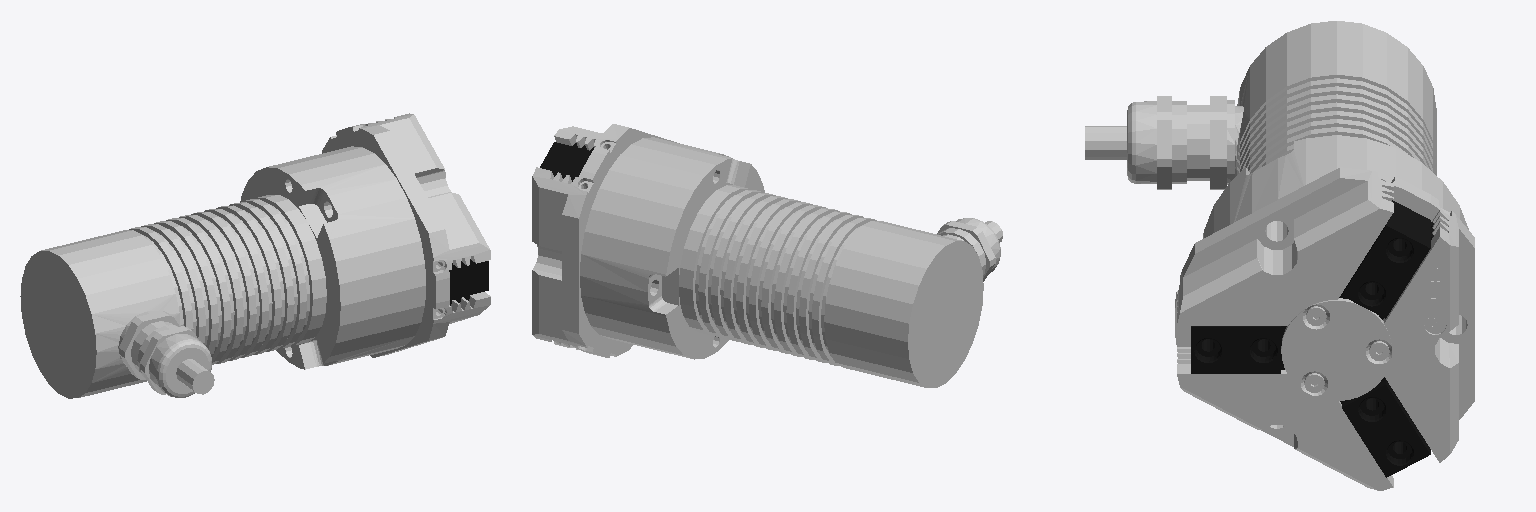
robot.urdf — ezn64_model:
<robot
  name="ezn64_model">
  <link
    name="ezn64_base_link">
    <inertial>
      <origin
        xyz="-0.0597472396167027 -0.00105462552475217 1.03388922491662E-05"
        rpy="0 0 0" />
      <mass
        value="0.292531716256714" />
      <inertia
        ixx="0.000127280528424294"
        ixy="1.70352243549314E-05"
        ixz="1.18923384991819E-07"
        iyy="0.000494637894497754"
        iyz="-4.08383573670305E-08"
        izz="0.000506767672669245" />
    </inertial>
    <visual>
      <origin
        xyz="0 0 0"
        rpy="0 0 0" />
      <geometry>
        <mesh
          filename="package://ezn64_model/meshes/ezn64_base_link.STL" />
      </geometry>
      <material
        name="">
        <color
          rgba="0.819607843137255 0.819607843137255 0.819607843137255 1" />
      </material>
    </visual>
    <collision>
      <origin
        xyz="0 0 0"
        rpy="0 0 0" />
      <geometry>
        <mesh
          filename="package://ezn64_model/meshes/ezn64_base_link.STL" />
      </geometry>
    </collision>
  </link>
  <link
    name="ezn64_finger_1">
    <inertial>
      <origin
        xyz="0.00709005979737385 -0.000260000509586692 -0.0102744701962787"
        rpy="0 0 0" />
      <mass
        value="0.00614599943010827" />
      <inertia
        ixx="5.87624825788296E-07"
        ixy="1.69661588831627E-14"
        ixz="-1.33685858752718E-08"
        iyy="5.87785468507411E-07"
        iyz="2.84080225024107E-15"
        izz="2.22775219868136E-07" />
    </inertial>
    <visual>
      <origin
        xyz="0 0 0"
        rpy="0 0 0" />
      <geometry>
        <mesh
          filename="package://ezn64_model/meshes/ezn64_finger_1.STL" />
      </geometry>
      <material
        name="">
        <color
          rgba="0.12156862745098 0.12156862745098 0.12156862745098 1" />
      </material>
    </visual>
    <collision>
      <origin
        xyz="0 0 0"
        rpy="0 0 0" />
      <geometry>
        <mesh
          filename="package://ezn64_model/meshes/ezn64_finger_1.STL" />
      </geometry>
    </collision>
  </link>
  <joint
    name="ezn64_joint_1"
    type="prismatic">
    <origin
      xyz="-0.01501 -0.0086667 0"
      rpy="-1.5708 0 0" />
    <parent
      link="ezn64_base_link" />
    <child
      link="ezn64_finger_1" />
    <axis
      xyz="0 0 -1" />
    <limit
      lower="0"
      upper="0.006"
      effort="0"
      velocity="0" />
  </joint>
  <link
    name="ezn64_finger_2">
    <inertial>
      <origin
        xyz="0.007090059798561 0.0102635175461303 0.000259999490413285"
        rpy="0 0 0" />
      <mass
        value="0.00614599942439724" />
      <inertia
        ixx="5.87624816021265E-07"
        ixy="1.33685954824186E-08"
        ixz="1.69655511564291E-14"
        iyy="2.2277521955471E-07"
        iyz="-3.52982932349008E-15"
        izz="5.87785458977903E-07" />
    </inertial>
    <visual>
      <origin
        xyz="0 0 0"
        rpy="0 0 0" />
      <geometry>
        <mesh
          filename="package://ezn64_model/meshes/ezn64_finger_2.STL" />
      </geometry>
      <material
        name="">
        <color
          rgba="0.12156862745098 0.12156862745098 0.12156862745098 1" />
      </material>
    </visual>
    <collision>
      <origin
        xyz="0 0 0"
        rpy="0 0 0" />
      <geometry>
        <mesh
          filename="package://ezn64_model/meshes/ezn64_finger_2.STL" />
      </geometry>
    </collision>
  </link>
  <joint
    name="ezn64_joint_2"
    type="prismatic">
    <origin
      xyz="-0.01501 0.0043333 0.0075056"
      rpy="1.0472 0 0" />
    <parent
      link="ezn64_base_link" />
    <child
      link="ezn64_finger_2" />
    <axis
      xyz="0 1 0" />
    <limit
      lower="0"
      upper="0.006"
      effort="0"
      velocity="0" />
  </joint>
  <link
    name="ezn64_finger_3">
    <inertial>
      <origin
        xyz="0.007090059798561 0.000260000509586661 0.0103109721293354"
        rpy="0 0 0" />
      <mass
        value="0.00614599942439724" />
      <inertia
        ixx="5.87624816021265E-07"
        ixy="-1.69655511001808E-14"
        ixz="1.33685954824186E-08"
        iyy="5.87785458977903E-07"
        iyz="3.52983010434858E-15"
        izz="2.22775219554709E-07" />
    </inertial>
    <visual>
      <origin
        xyz="0 0 0"
        rpy="0 0 0" />
      <geometry>
        <mesh
          filename="package://ezn64_model/meshes/ezn64_finger_3.STL" />
      </geometry>
      <material
        name="">
        <color
          rgba="0.12156862745098 0.12156862745098 0.12156862745098 1" />
      </material>
    </visual>
    <collision>
      <origin
        xyz="0 0 0"
        rpy="0 0 0" />
      <geometry>
        <mesh
          filename="package://ezn64_model/meshes/ezn64_finger_3.STL" />
      </geometry>
    </collision>
  </link>
  <joint
    name="ezn64_joint_3"
    type="prismatic">
    <origin
      xyz="-0.01501 0.0043333 -0.0075056"
      rpy="-2.618 0 0" />
    <parent
      link="ezn64_base_link" />
    <child
      link="ezn64_finger_3" />
    <axis
      xyz="0 0 1" />
    <limit
      lower="0"
      upper="0.006"
      effort="0"
      velocity="0" />
  </joint>
</robot>

--- Facts derived from the render (not from the file) ---
Views: 3 orthographic renders of the robot side by side, from view 1: azimuth 30°, elevation 25°; view 2: azimuth 150°, elevation 25°; view 3: azimuth 270°, elevation 25°.
Model ezn64_model with 4 links and 3 joints (3 prismatic), rooted at ezn64_base_link, posed every joint at zero.
Links seen in each view (by area): view 1: ezn64_base_link, ezn64_finger_1; view 2: ezn64_base_link, ezn64_finger_2; view 3: ezn64_base_link, ezn64_finger_2, ezn64_finger_3, ezn64_finger_1.
Link boxes in pixels (bbox=[...]): ezn64_base_link: bbox=[20, 113, 490, 398]; ezn64_finger_1: bbox=[449, 259, 488, 305]; ezn64_base_link: bbox=[532, 124, 1002, 387]; ezn64_finger_2: bbox=[540, 142, 593, 181]; ezn64_base_link: bbox=[1085, 21, 1474, 490]; ezn64_finger_2: bbox=[1339, 200, 1433, 319]; ezn64_finger_3: bbox=[1340, 377, 1430, 477]; ezn64_finger_1: bbox=[1191, 326, 1286, 373].
Size in the robot's own frame: 0.1334 by 0.0916 by 0.076 metres.
Meshes: 4 distinct files referenced, 4 mesh visuals loaded (4 binary STL).
